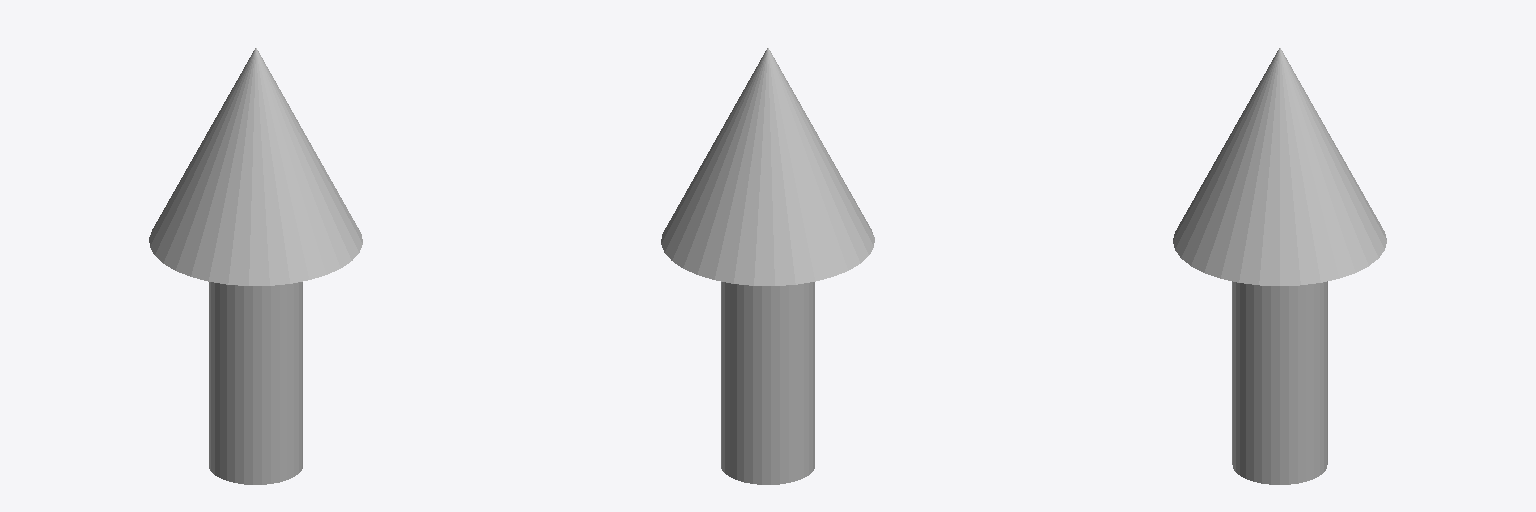
File: arrow.obj
The picture shows the model from 3 angles: view 1: azimuth 30°, elevation 25°; view 2: azimuth 150°, elevation 25°; view 3: azimuth 270°, elevation 25°; orthographic projection.
Visible parts, largest first — view 1: Cylinder; view 2: Cylinder; view 3: Cylinder.
Part boxes in pixels (x1,y1,x2,y2): Cylinder: (149, 48, 362, 484); Cylinder: (661, 48, 874, 484); Cylinder: (1173, 48, 1386, 484).
Size of the model in its own units: 0.5053 by 1.09 by 0.5053.